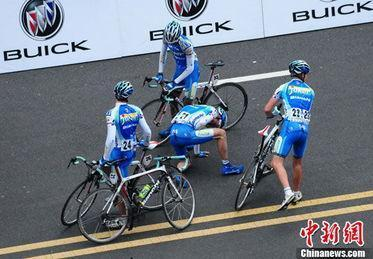Fall-Detected: (161, 97, 246, 181)
